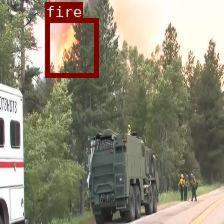fire: (45, 18, 98, 76)
